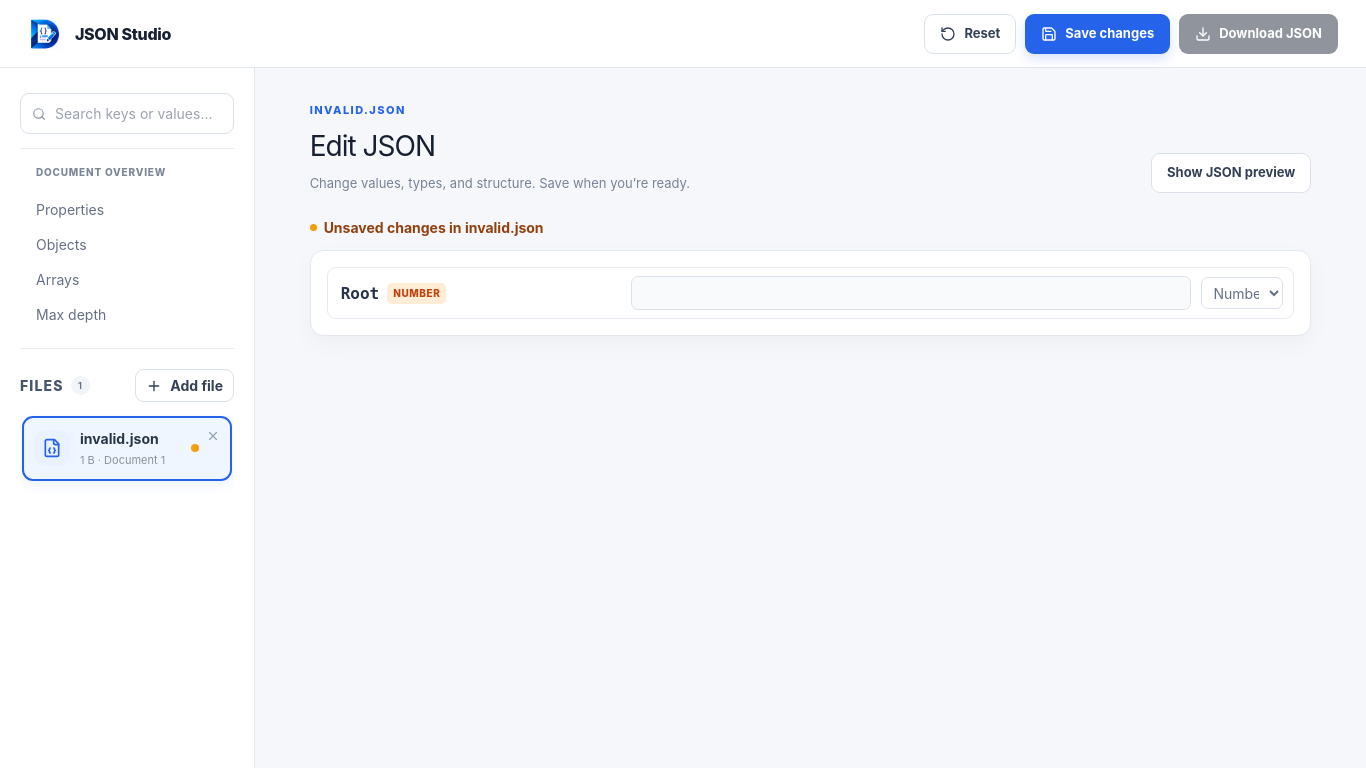
Test: application workflow › shows a red Failed notification with a trailing cross when save fails
Click the button "Save changes" at (1098, 34), box left=1025, top=14, right=1170, bottom=54
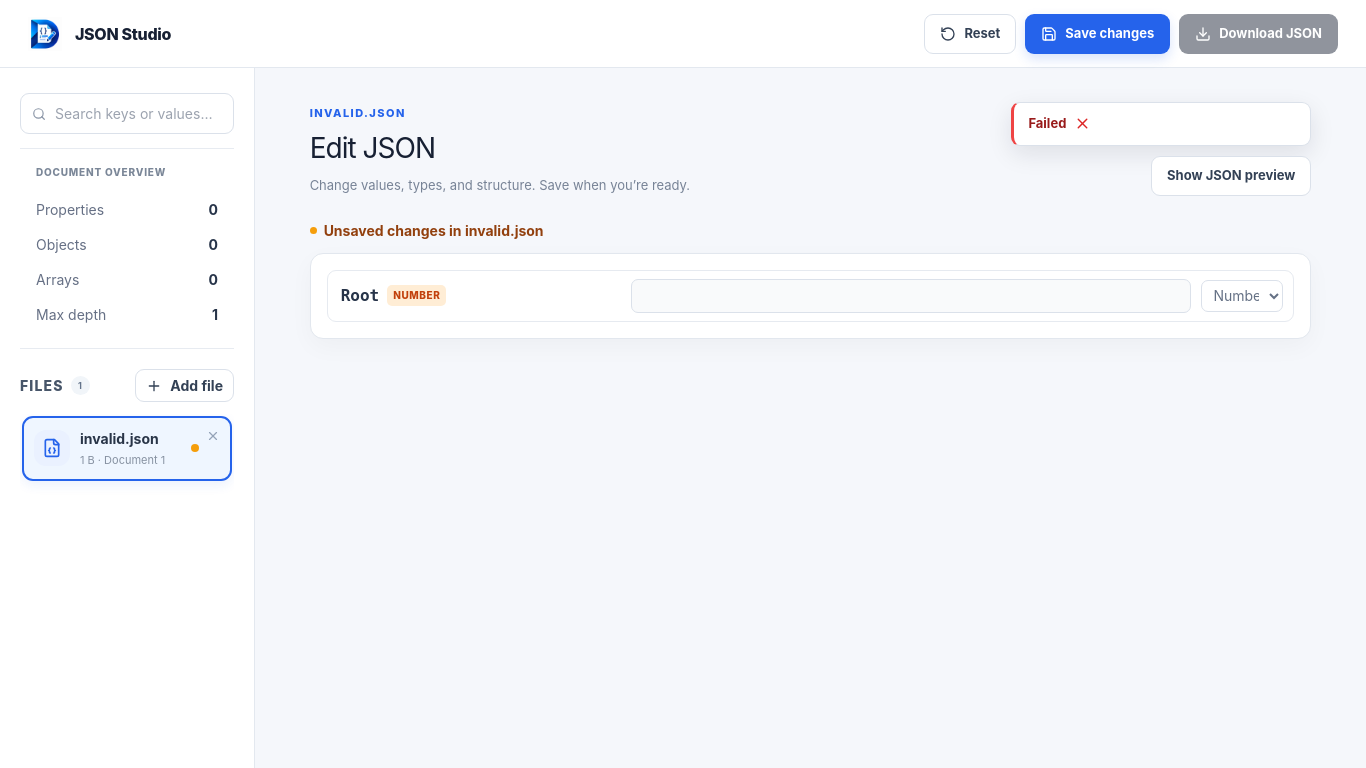
Check: the message reads "Failed", box left=1028, top=115, right=1066, bottom=131
